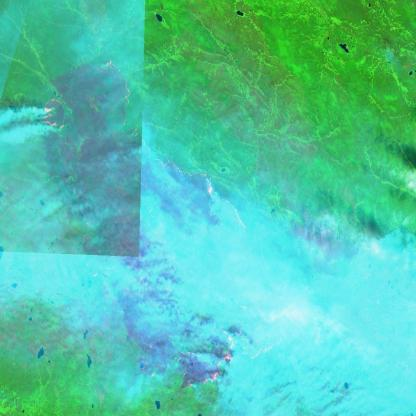fire: (154, 157, 250, 240), (186, 316, 264, 394), (104, 53, 134, 125), (39, 87, 75, 142)
